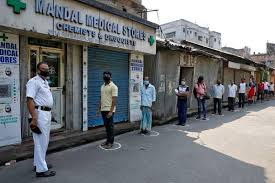Good: (23, 61, 119, 179), (99, 70, 158, 149), (139, 70, 190, 137), (173, 75, 210, 126), (193, 75, 225, 120), (213, 75, 238, 115), (228, 75, 247, 112)
